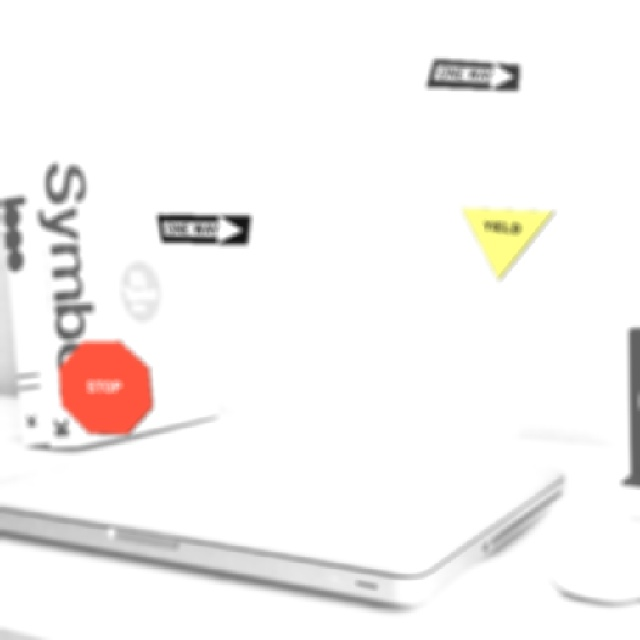ONE_WAY_ right: (424, 57, 519, 90), (155, 213, 250, 244)
STOP: (57, 339, 152, 434)
YIELD: (459, 206, 554, 280)
